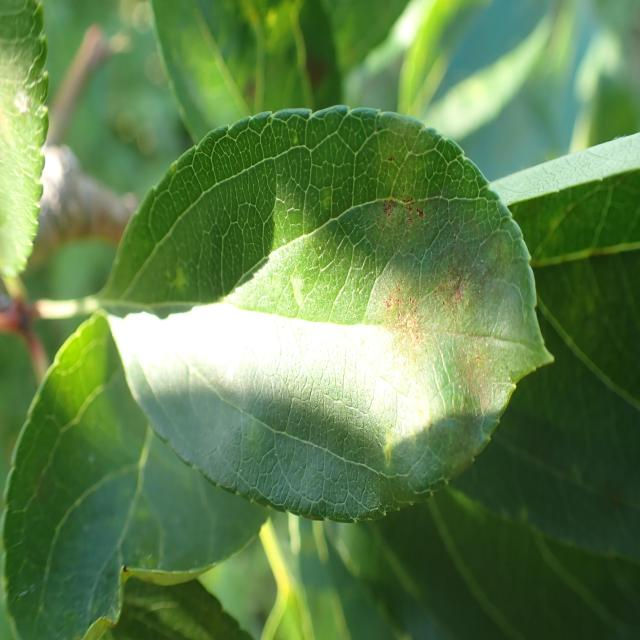scab: (234, 110, 532, 478)
